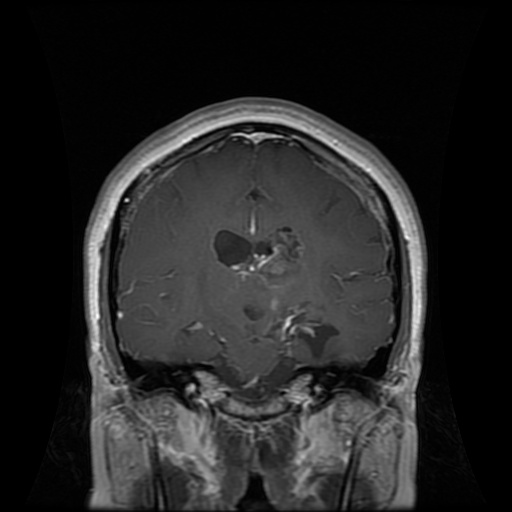glioma: (211, 227, 308, 279)
